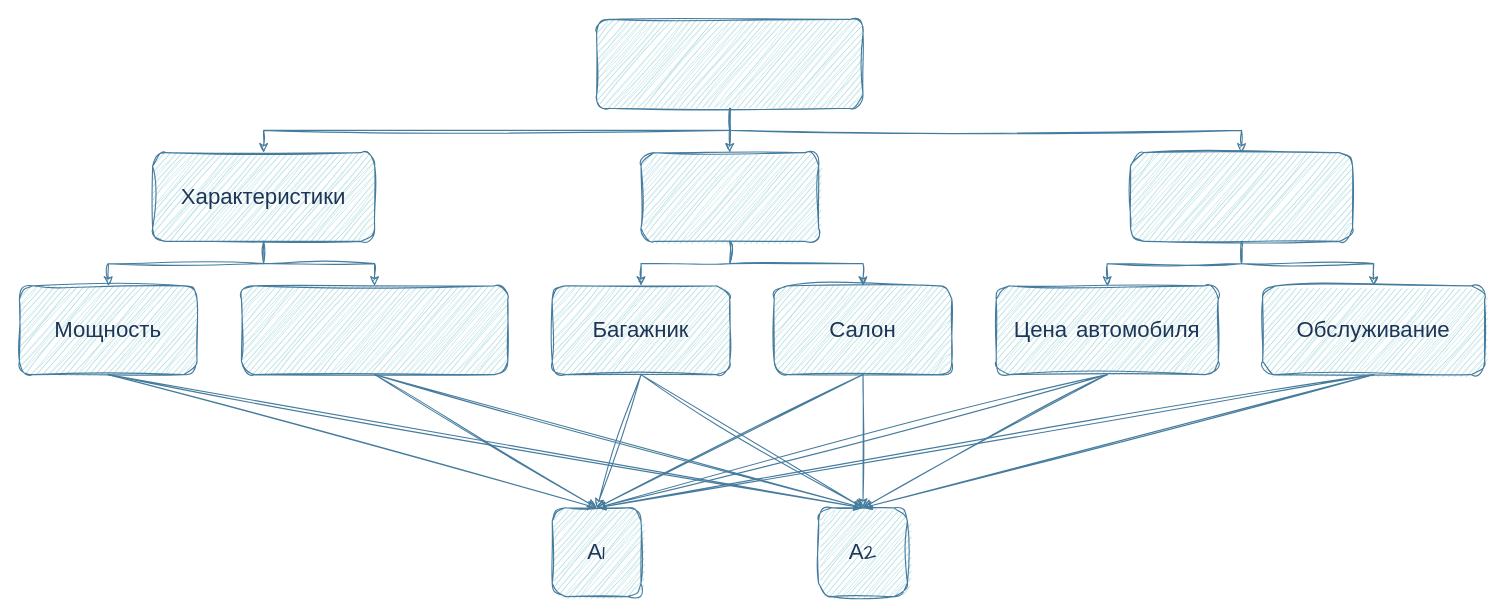
The diagram is 1504 pixels wide and 616 high, and some of its shapes have lost their labels. Here are the shapes that lost their labels. From the top down, the box of each, then its label:
(596, 18, 863, 108): Покупка автомобиля
(640, 152, 819, 241): Удобство
(1129, 152, 1353, 241): Материальная база
(240, 285, 508, 375): Тип коробки передач
